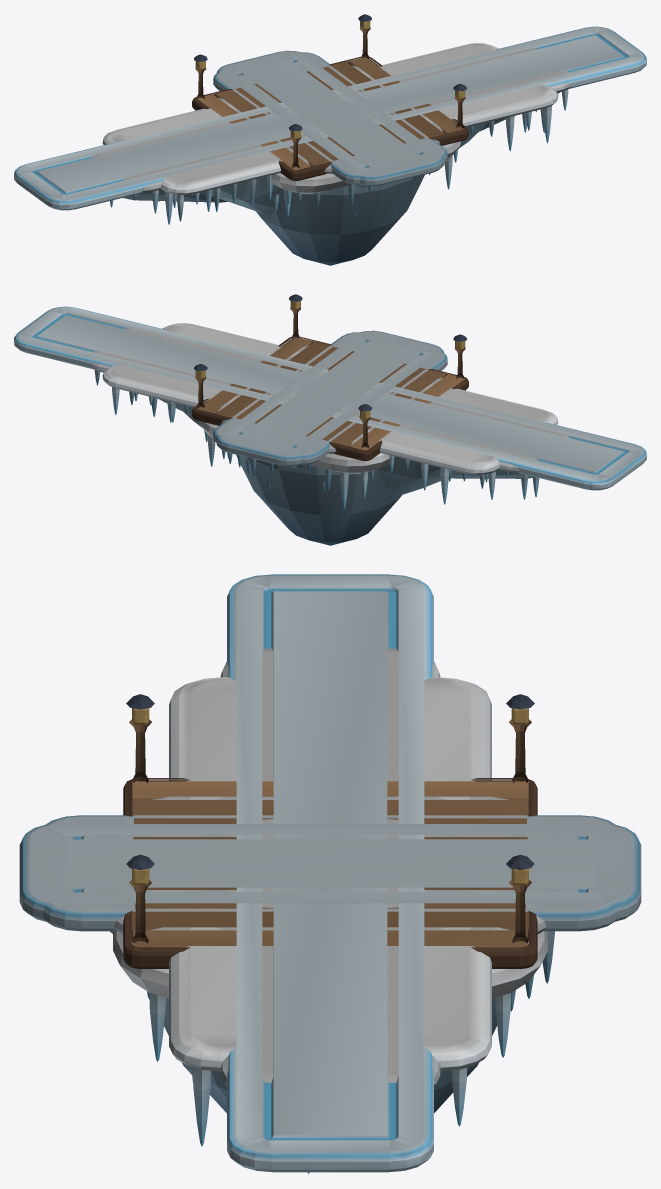
The model's file is glacier-1-Do562iTk.glb.
3 renders of one model, top to bottom at view 1: azimuth 30°, elevation 25°; view 2: azimuth 150°, elevation 25°; view 3: azimuth 270°, elevation 25°, orthographic. The views are drawn at different scales.
Parts seen in each view (by area): view 1: block_40x2x6_ice#1, block_6x2x18_ice#1, block_26x2x9#1, pad_12x2x12#0, disc_14x1.5#0, block_30x2x6_grate#1, block_7x2x17_ice#0, disc_12x1.5#1, block_7x2x14_ice#1; view 2: block_40x2x6_ice#1, block_6x2x18_ice#1, block_26x2x9#1, pad_12x2x12#0, disc_14x1.5#0, block_30x2x6_grate#1, block_7x2x17_ice#0, disc_12x1.5#1, block_7x2x14_ice#1; view 3: block_40x2x6_ice#1, block_6x2x18_ice#1, block_26x2x9#1, pad_12x2x12#0, block_7x2x17_ice#0, block_30x2x6_grate#1, disc_14x1.5#0, disc_12x1.5#1, block_7x2x14_ice#1.
Part boxes in pixels (box(x1,y1,x2,y2)): block_40x2x6_ice#1: box(14, 26, 646, 210); block_6x2x18_ice#1: box(217, 50, 444, 186); block_26x2x9#1: box(102, 43, 558, 224); pad_12x2x12#0: box(192, 14, 468, 217); disc_14x1.5#0: box(218, 65, 442, 265); block_30x2x6_grate#1: box(92, 48, 570, 213); block_7x2x17_ice#0: box(213, 52, 447, 187); disc_12x1.5#1: box(235, 73, 425, 153); block_7x2x14_ice#1: box(231, 62, 429, 164); block_40x2x6_ice#1: box(14, 306, 646, 490); block_6x2x18_ice#1: box(216, 330, 443, 466); block_26x2x9#1: box(102, 323, 558, 504); pad_12x2x12#0: box(192, 294, 468, 509); disc_14x1.5#0: box(218, 345, 442, 545); block_30x2x6_grate#1: box(90, 328, 568, 499); block_7x2x17_ice#0: box(213, 332, 447, 468); disc_12x1.5#1: box(235, 353, 425, 433); block_7x2x14_ice#1: box(231, 342, 429, 444); block_40x2x6_ice#1: box(227, 574, 433, 1172); block_6x2x18_ice#1: box(19, 824, 641, 933); block_26x2x9#1: box(169, 677, 491, 1146); pad_12x2x12#0: box(113, 694, 547, 1061); block_7x2x17_ice#0: box(43, 815, 617, 931); block_30x2x6_grate#1: box(220, 648, 440, 1173); disc_14x1.5#0: box(114, 796, 554, 1112); disc_12x1.5#1: box(151, 796, 509, 930); block_7x2x14_ice#1: box(98, 816, 562, 910).
Bounding box in the file's own units: 40 × 12.57 × 18.
